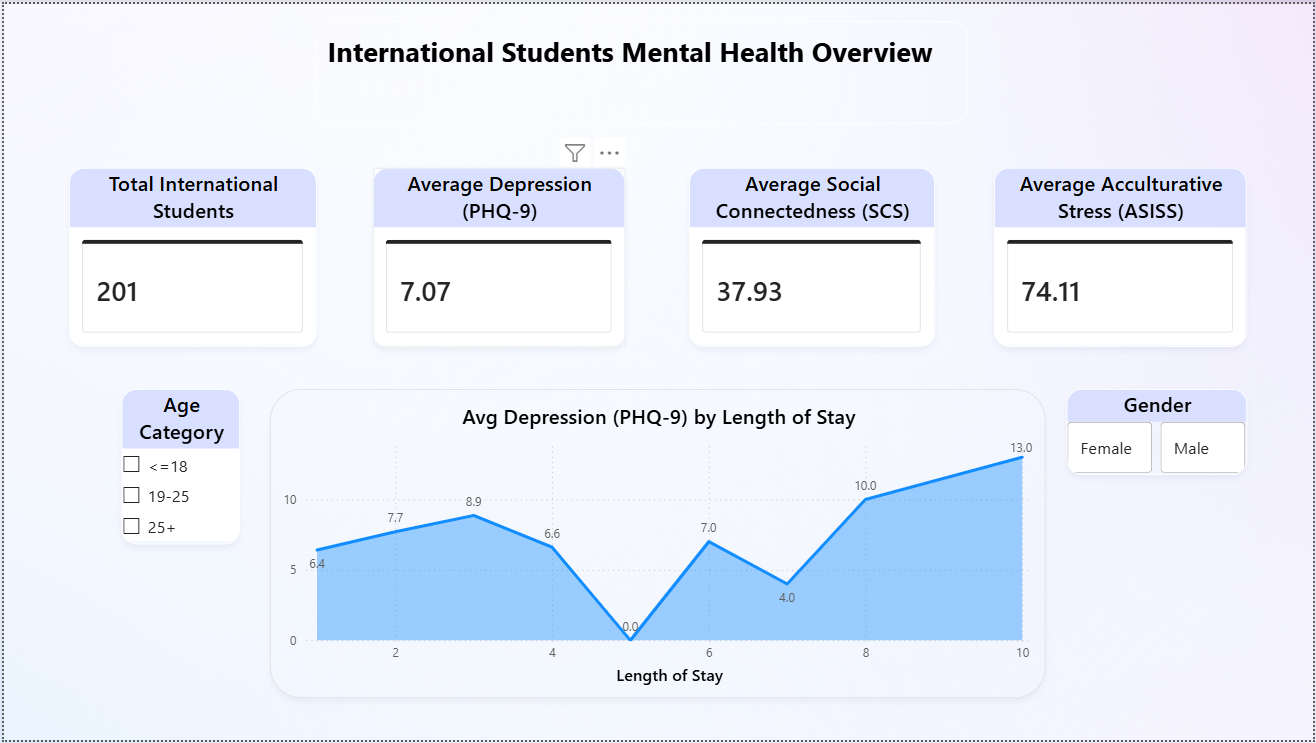

The dashboard page shown, as its layout file describes it:
{"tool":"powerbi","page":{"name":"Overview","canvas":[1280,720],"ordinal":0},"visuals":[{"type":"cardVisual","title":"Total International Students","fields":{"Data":["Sum(International_students_analysis.Number of International Students)"]},"box":[63,160.6,242.2,175.5],"z":0},{"type":"cardVisual","title":"Average Depression (PHQ-9)","fields":{"Data":["Avg(International_students_analysis.Avg Depression (PHQ-9))"]},"box":[360.8,160.6,247.2,175.5],"z":1000},{"type":"cardVisual","title":"Average Social Connectedness (SCS)","fields":{"Data":["Avg(International_students_analysis.Avg Social Connectedness (SCS))"]},"box":[669.8,160.6,241,175.5],"z":2000},{"type":"cardVisual","title":"Average Acculturative Stress (ASISS)","fields":{"Data":["Avg(International_students_analysis.Avg Acculturative Stress (ASISS))"]},"box":[968.8,160.6,247.2,175.5],"z":3000},{"type":"lineChart","title":"Avg Depression (PHQ-9) by Length of Stay","fields":{"Category":["International_students_analysis.Length of Stay"],"Y":["Avg(International_students_analysis.Avg Depression (PHQ-9))"]},"box":[260.7,376.9,758.8,302.8],"z":4000},{"type":"textbox","box":[305.2,17.3,636.4,100.1],"z":5000},{"type":"advancedSlicerVisual","fields":{"Values":["International_students_analysis.Gender"]},"box":[1039.3,376.9,176.7,84],"z":6000},{"type":"listSlicer","fields":{"Values":["International_students_analysis.Age Category"]},"box":[114.9,376.9,116.2,152],"z":7000}]}

Visuals, with their boxes in screenshot pixels (x1, y1, x2, y2), scaled from the page's 1280x720 canvas onto the 1316x743 screenshot:
"Total International Students" cardVisual: BBox(65, 166, 314, 347)
"Average Depression (PHQ-9)" cardVisual: BBox(371, 166, 625, 347)
"Average Social Connectedness (SCS)" cardVisual: BBox(689, 166, 936, 347)
"Average Acculturative Stress (ASISS)" cardVisual: BBox(996, 166, 1250, 347)
"Avg Depression (PHQ-9) by Length of Stay" lineChart: BBox(268, 389, 1048, 701)
textbox: BBox(314, 18, 968, 121)
advancedSlicerVisual - International_students_analysis.Gender: BBox(1069, 389, 1250, 476)
listSlicer - International_students_analysis.Age Category: BBox(118, 389, 238, 546)
